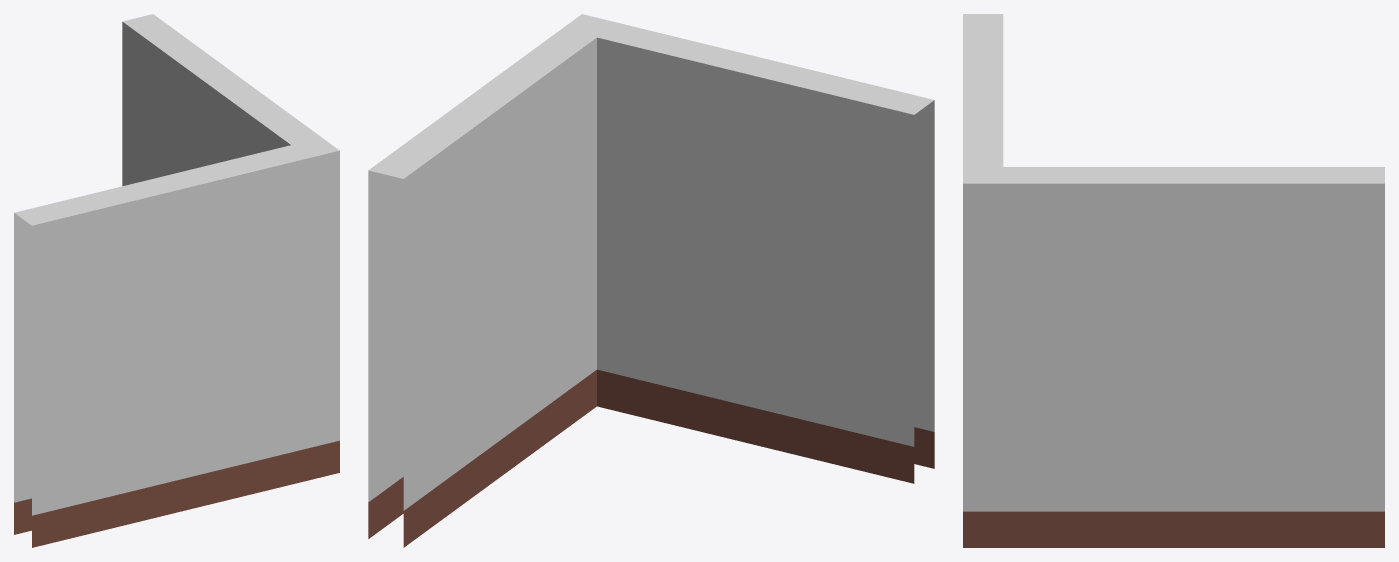
Rendered from Wall_04.fbx.
3 views of the same model, side by side, from view 1: azimuth 30°, elevation 25°; view 2: azimuth 150°, elevation 25°; view 3: azimuth 270°, elevation 25° (orthographic). The views are drawn at different scales.
Parts seen in each view (by area): view 1: Wall.002; view 2: Wall.002; view 3: Wall.002.
Part boxes in pixels (box(x1,y1,x2,y2)): Wall.002: box(14, 14, 339, 547); Wall.002: box(368, 14, 934, 547); Wall.002: box(963, 14, 1384, 547).
Size of the model in its own units: 200 by 200 by 210.
